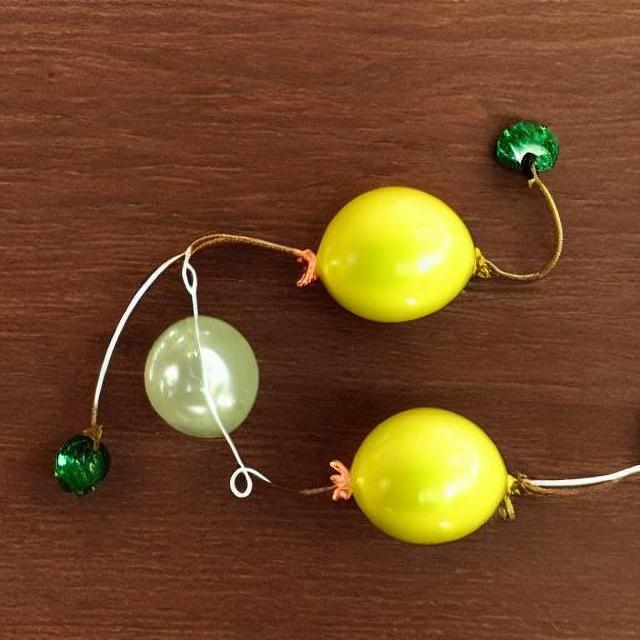balloon: (338, 401, 510, 545), (311, 180, 474, 323), (139, 314, 261, 448)
